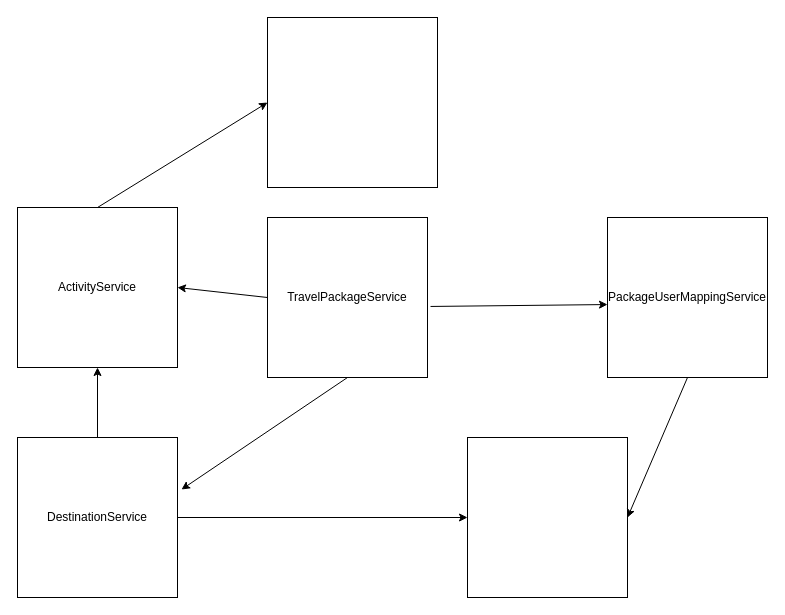
This 785x615 diagram has some shape labels left out. Each missing label, with the box of its shape:
ActivityUserMappingService: (266, 16, 438, 188)
Userservice: (466, 436, 628, 598)
